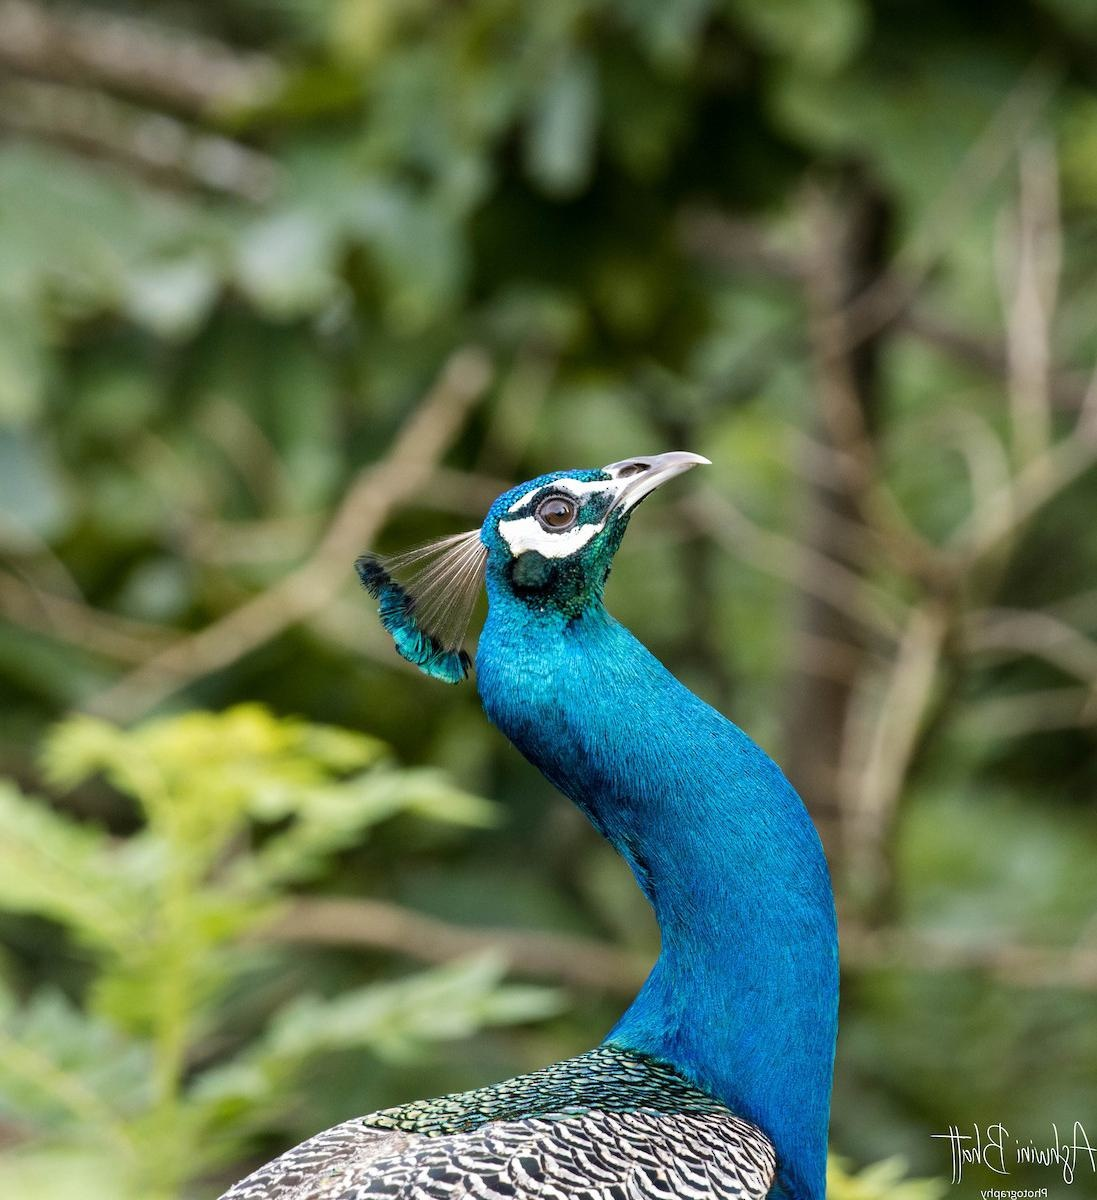peacock: (107, 406, 882, 1200)
